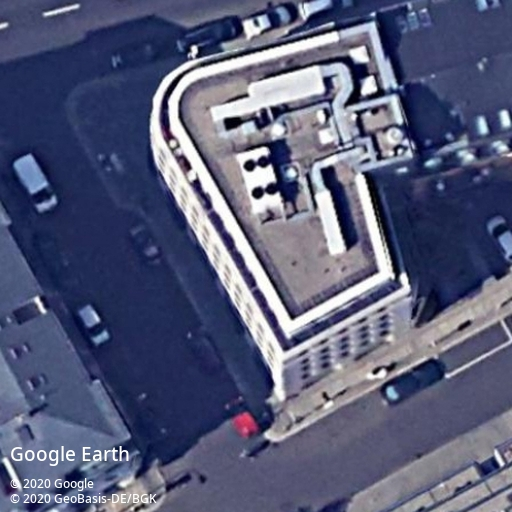Chiller: (235, 146, 283, 213)
